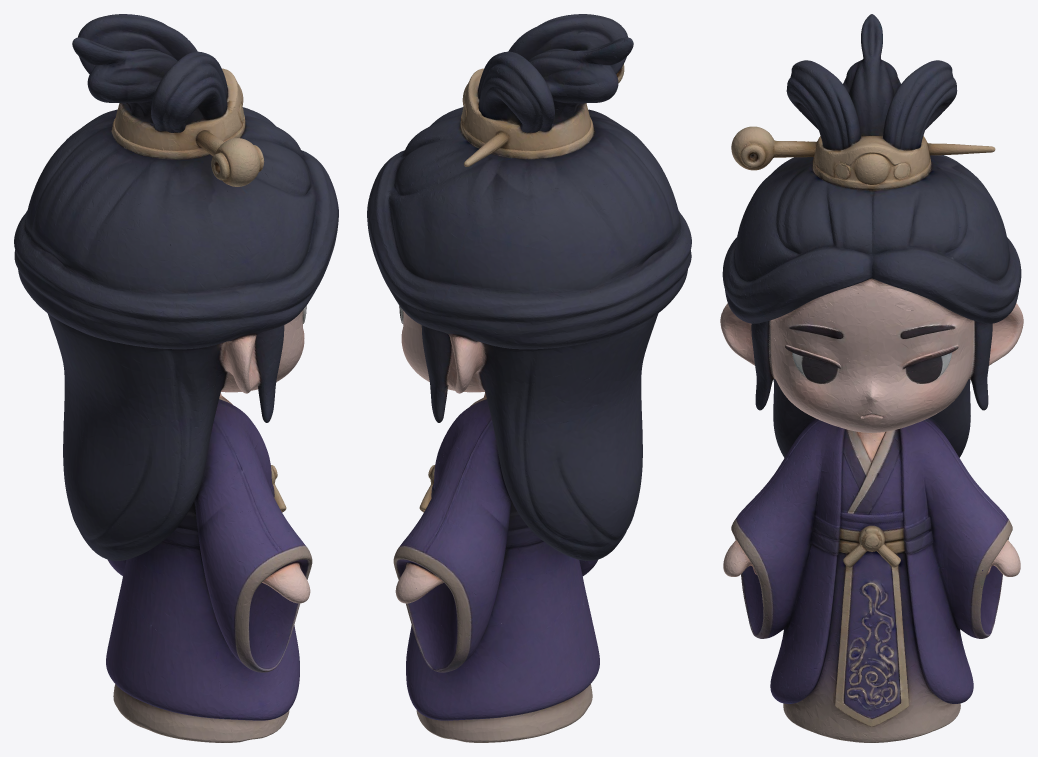
3 renders of one model, left to right at view 1: azimuth 30°, elevation 25°; view 2: azimuth 150°, elevation 25°; view 3: azimuth 270°, elevation 25°, orthographic. The views are drawn at different scales.
Parts seen in each view (by area): view 1: tripo_node_faec54ba-4d6b-4189-8bca-a2478e1a3ce4; view 2: tripo_node_faec54ba-4d6b-4189-8bca-a2478e1a3ce4; view 3: tripo_node_faec54ba-4d6b-4189-8bca-a2478e1a3ce4.
Part boxes in pixels (x1,y1,x2,y2): tripo_node_faec54ba-4d6b-4189-8bca-a2478e1a3ce4: (14, 14, 338, 742); tripo_node_faec54ba-4d6b-4189-8bca-a2478e1a3ce4: (367, 14, 691, 742); tripo_node_faec54ba-4d6b-4189-8bca-a2478e1a3ce4: (720, 14, 1023, 742).
Size of the model in its own units: 0.3895 by 0.9999 by 0.4198.
Materials: 1 (1 with a texture image).
